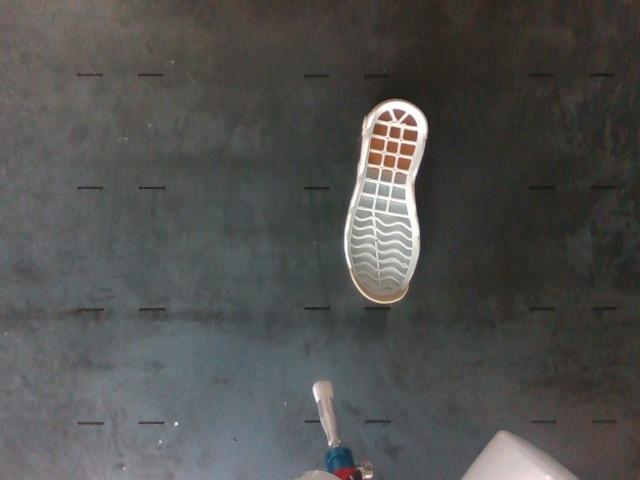shoes: (348, 102, 424, 302)
